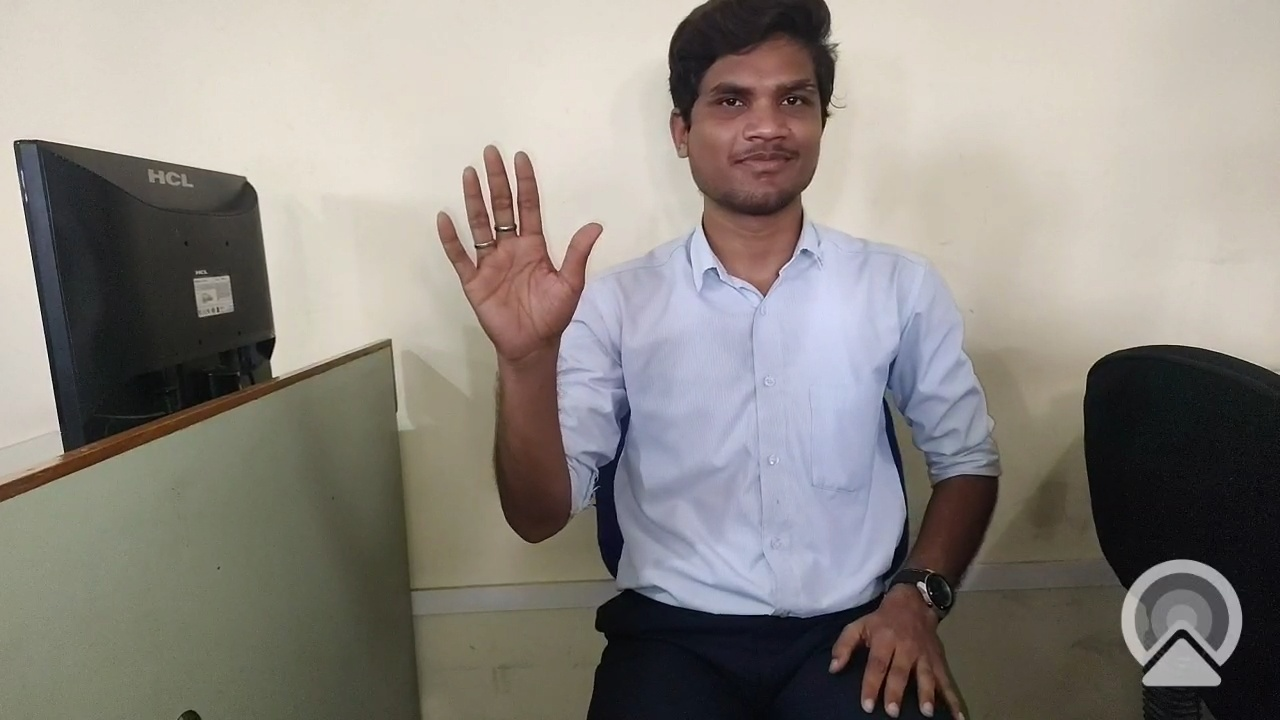Hello: (402, 121, 626, 396)
